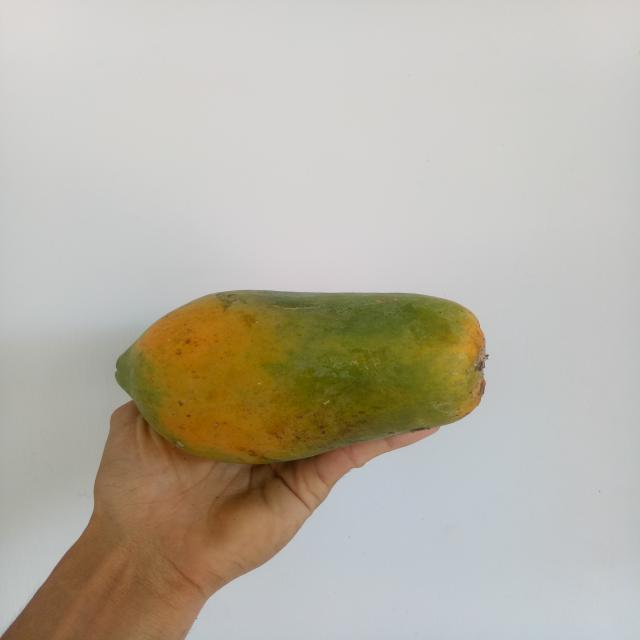Pepaya rippen: (96, 289, 491, 465)
